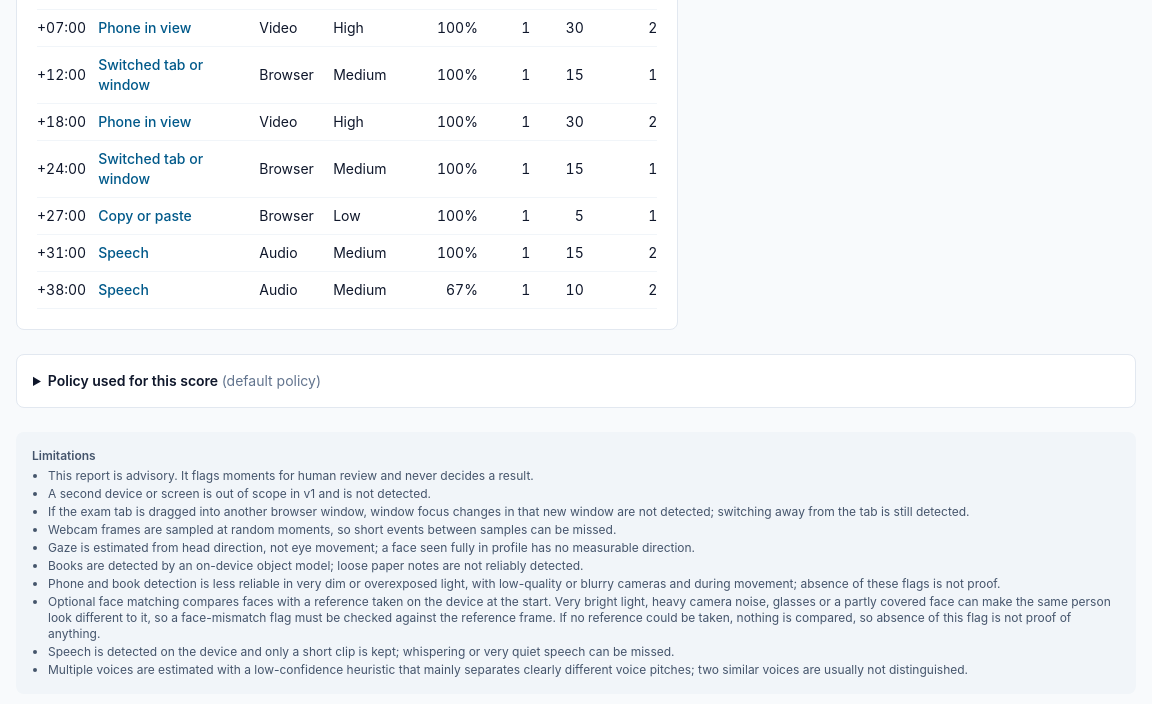
Test: report: trace every point to a violation and its evidence › shows the policy used for the score
(page scrolled)
What coordinates should you click on to do the following:
click the heading "Policy used for this score (default policy)"
I would click on:
 (184, 380)
Its box is [48,372,321,389].
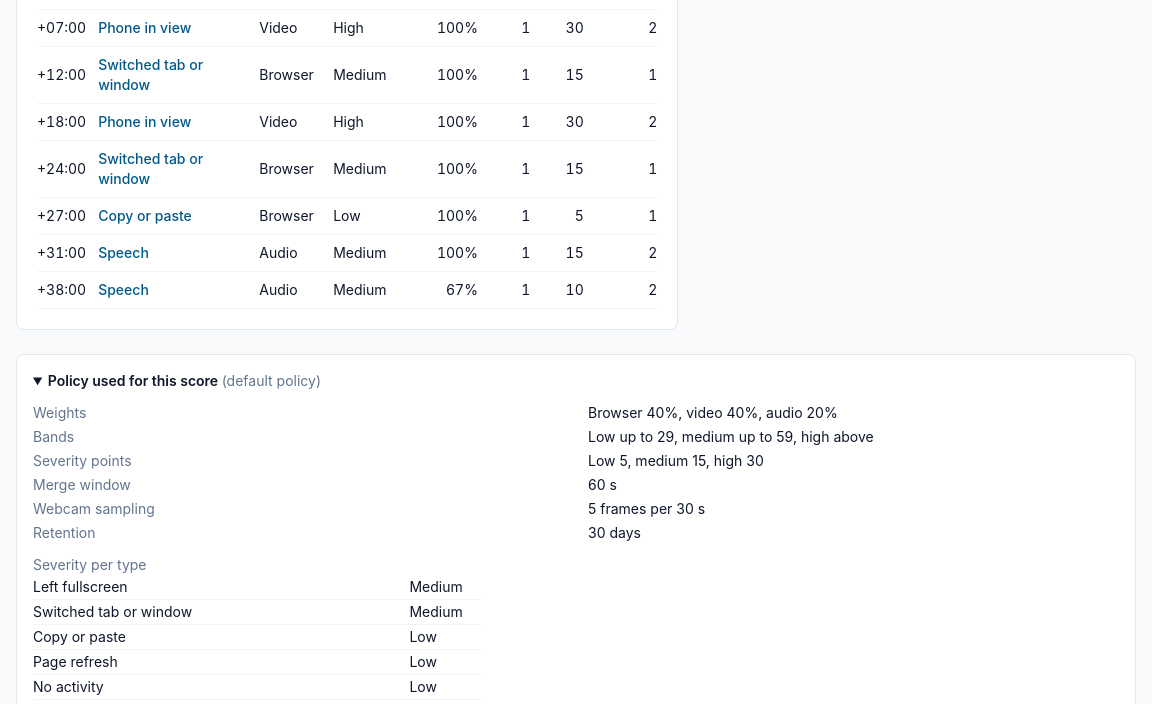
Now the text "Browser 40%, video 40%, audio 20%" is shown, box [588,404,838,421]
